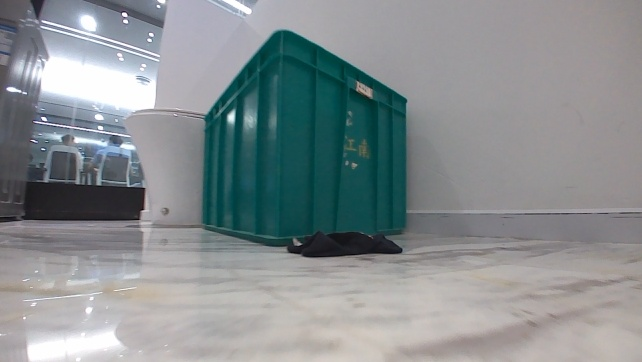socks: (285, 226, 405, 261)
toilet: (120, 102, 210, 230)
